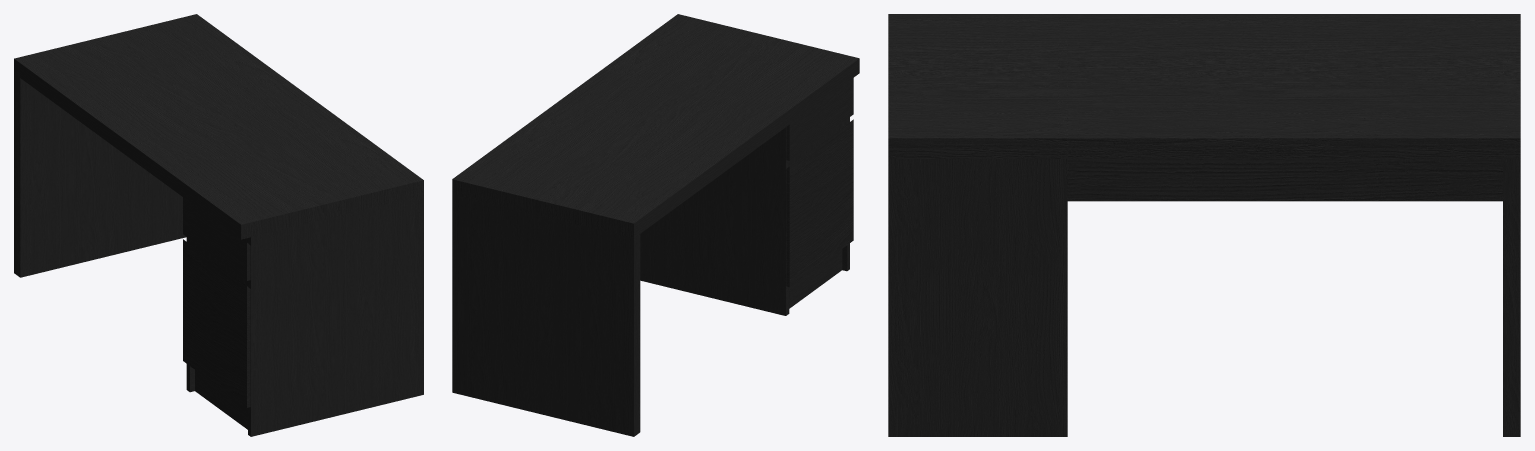
File: malm desk black.glb
The picture shows the model from 3 angles, left to right: view 1: azimuth 30°, elevation 25°; view 2: azimuth 150°, elevation 25°; view 3: azimuth 270°, elevation 25°; orthographic projection. The views are drawn at different scales.
Parts seen in each view (by area): view 1: Plane; view 2: Plane; view 3: Plane.
Boxes of the visible parts, left/top/right/bottom form: Plane: left=14, top=14, right=423, bottom=436; Plane: left=452, top=14, right=859, bottom=436; Plane: left=888, top=14, right=1520, bottom=436.
Bounding box in the file's own units: 25.62 × 28.73 × 55.12.
Materials: 2 (1 with a texture image).
